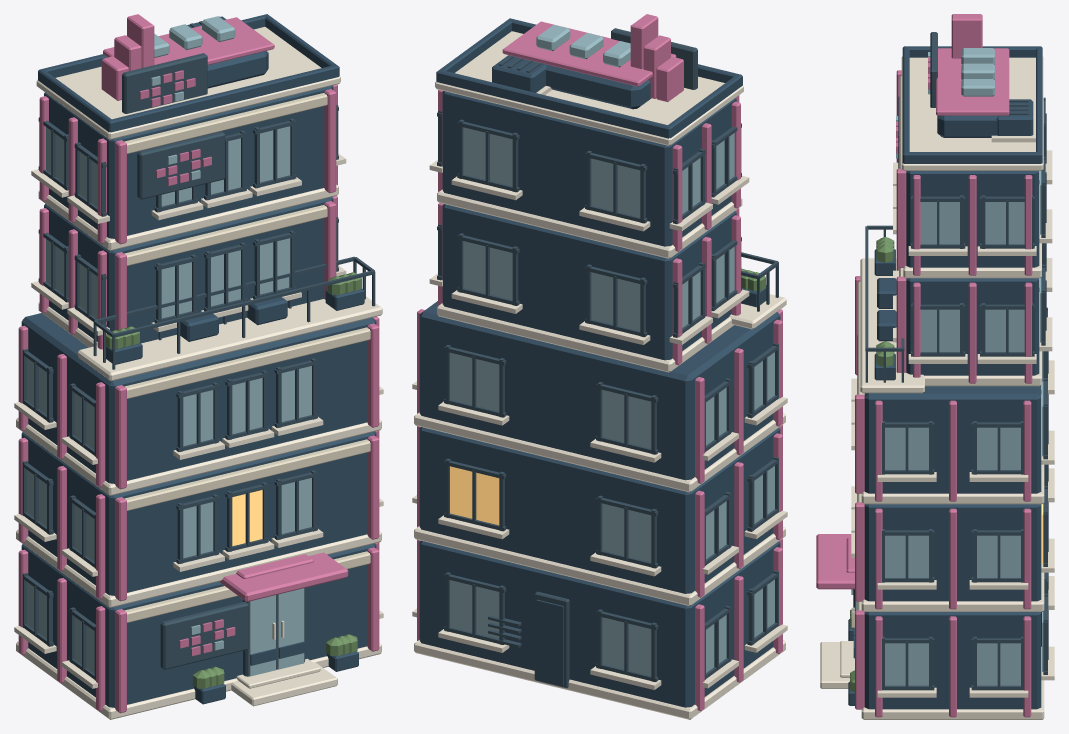
File: gaming-l05.glb
3 views of the same model, side by side, from view 1: azimuth 30°, elevation 25°; view 2: azimuth 150°, elevation 25°; view 3: azimuth 270°, elevation 25° (orthographic). The views are drawn at different scales.
Parts seen in each view (by area): view 1: gaming_L05; view 2: gaming_L05; view 3: gaming_L05.
Part boxes in pixels (<box>): gaming_L05: <box>14,14,383,719</box>; gaming_L05: <box>412,14,787,719</box>; gaming_L05: <box>816,14,1054,719</box>.
Bounding box in the file's own units: 5.77 × 12.11 × 4.24.
